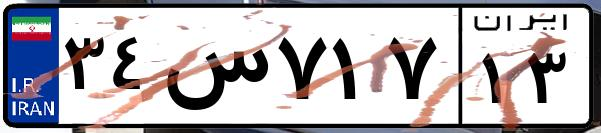1: (330, 28, 385, 110), (475, 38, 525, 113)
3: (57, 26, 110, 100), (525, 38, 570, 115)
4: (110, 28, 158, 98)
7: (270, 28, 330, 110), (385, 28, 445, 110)
س: (158, 20, 270, 120)
